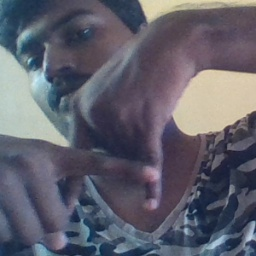H: (40, 87, 174, 217)
